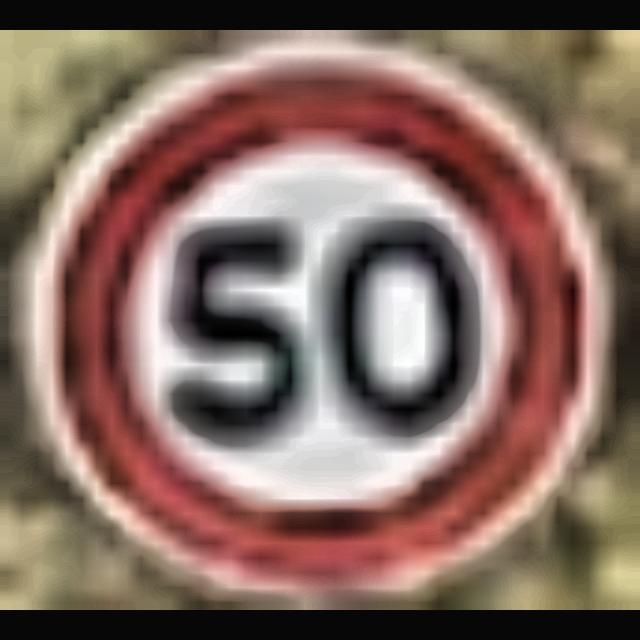speed_50: (0, 30, 640, 610)
